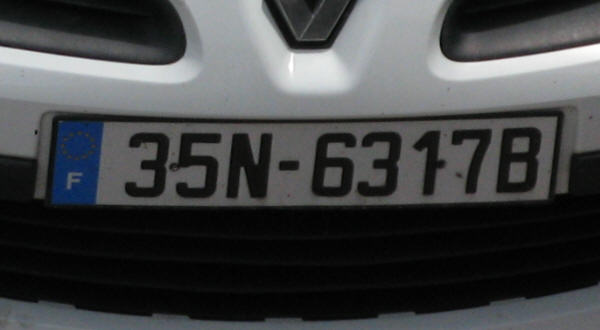license_plate: (44, 108, 560, 213)
